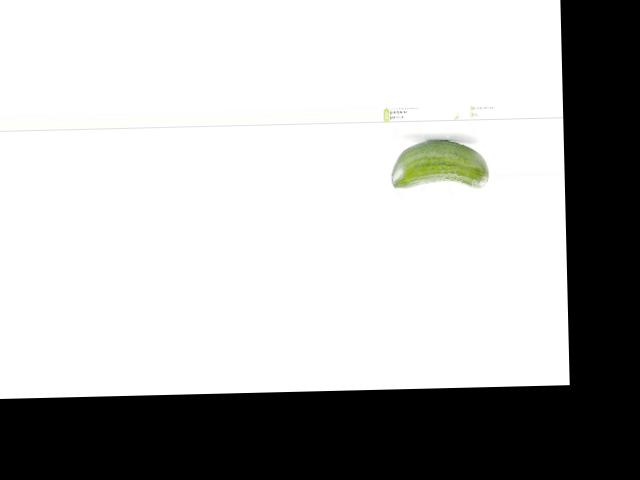cucumber: (391, 138, 489, 188)
